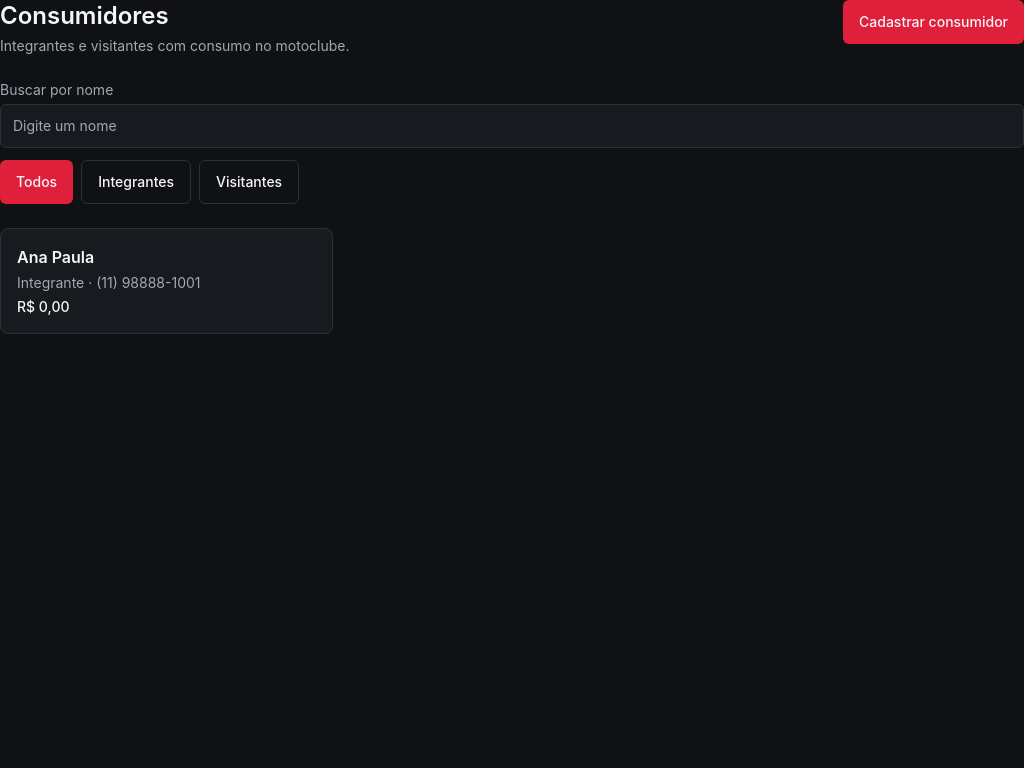
it: ConsumersView › corrects a mistyped name and phone from the consumer detail
Click the button "Ana Paula Integrante · (11) 98888-1001 R$ 0,00" at (167, 281), box [0,228,333,334]
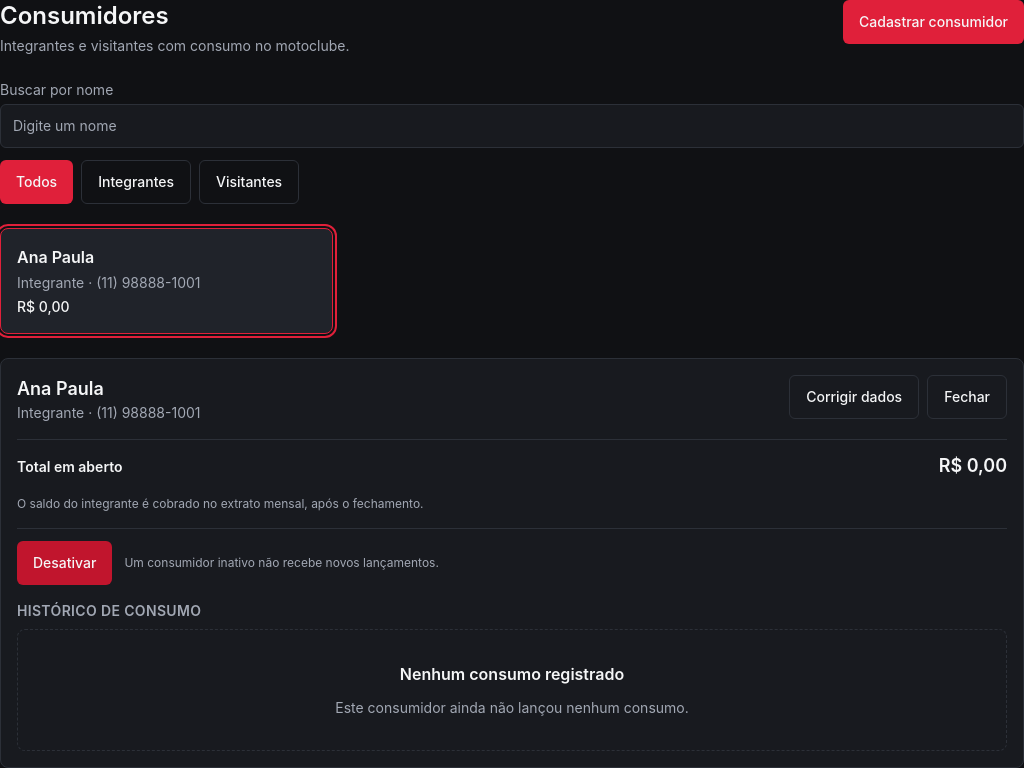
Click the button "Corrigir dados" at (854, 397), box [789,375,919,419]
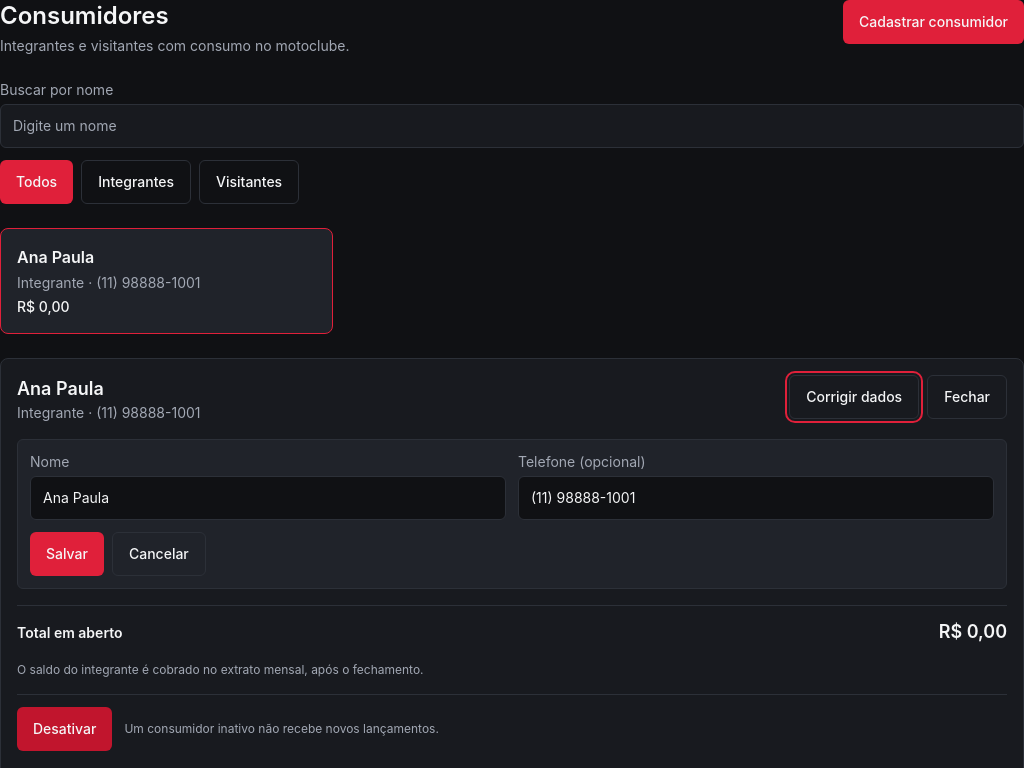
Replace the text in the field labelled "Nome" with "Ana Paula Souza" at (268, 498), box [30,476,506,520]
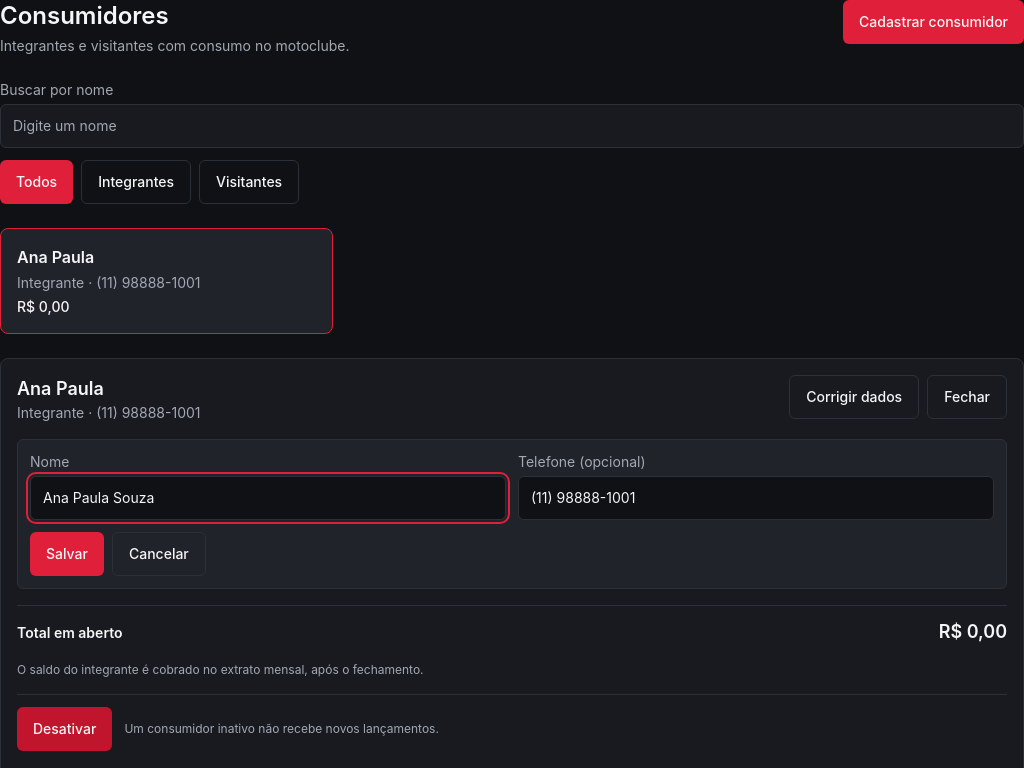
Clear the field labelled "Telefone (opcional)" at (756, 498), box [518,476,994,520]
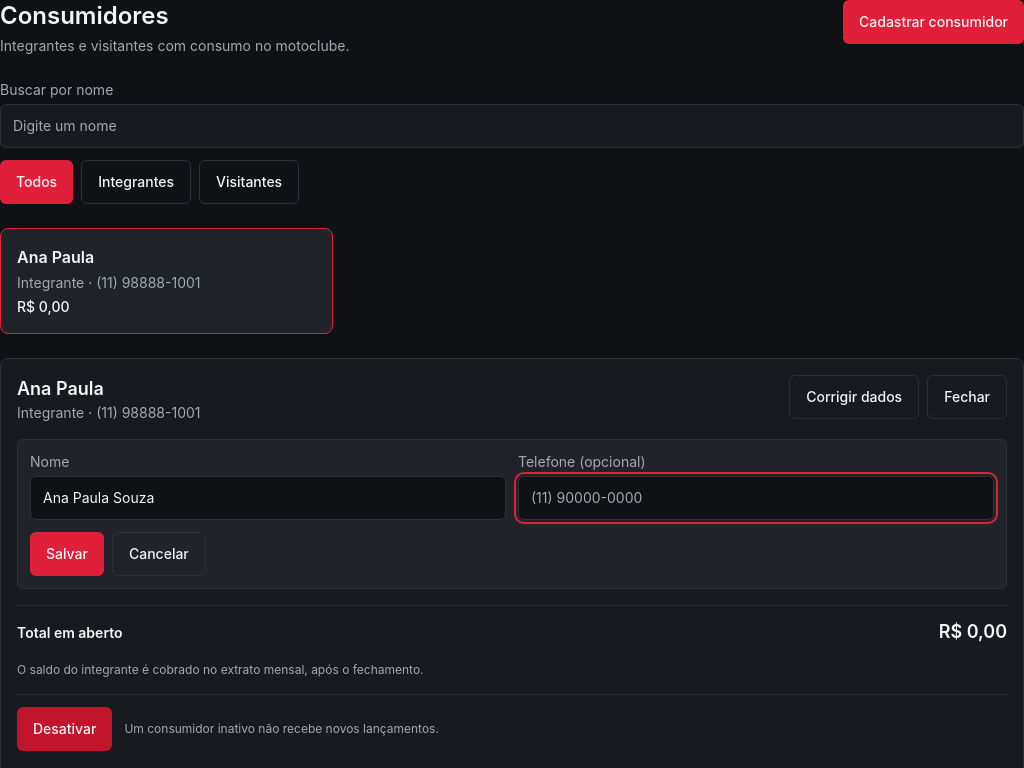
Click the button "Salvar" at (67, 554), box [30,532,104,576]
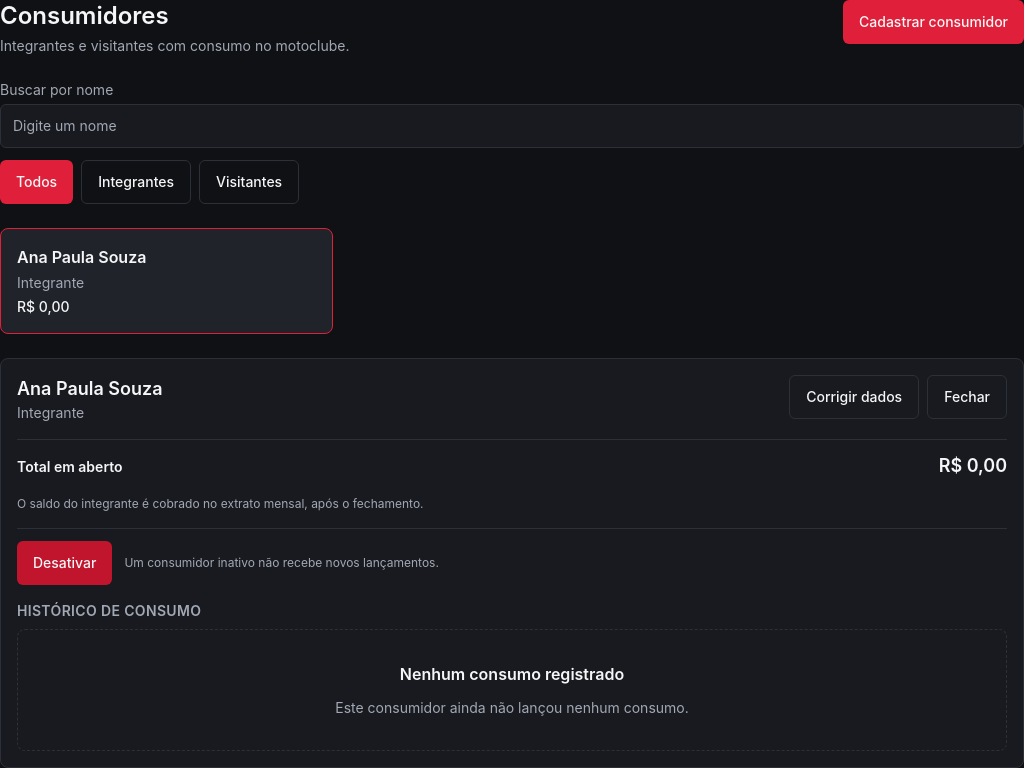
Check: the button "98888-1001" is gone
